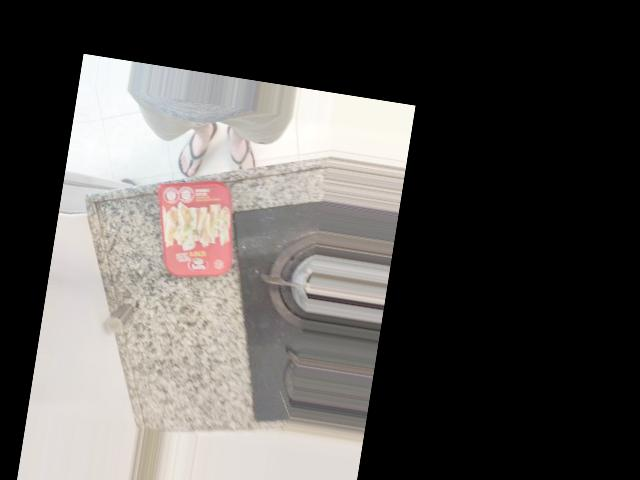cheese: (129, 255, 231, 377)
